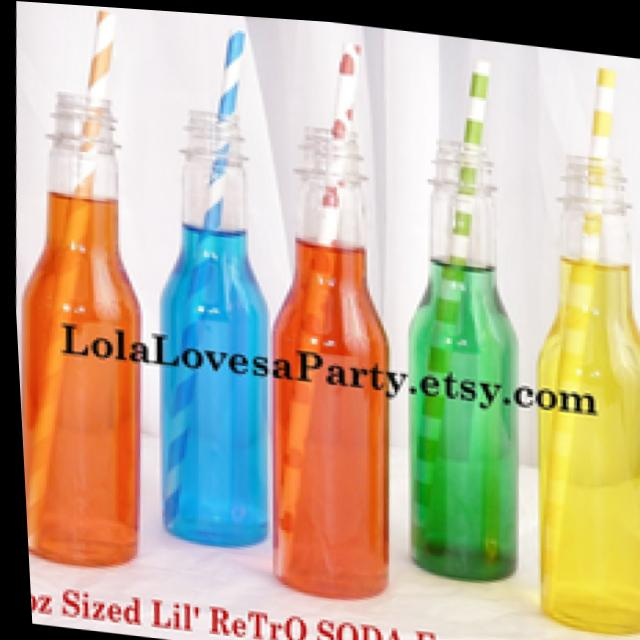glass_beverage_bottles: (250, 173, 410, 602), (6, 149, 155, 570), (387, 189, 533, 584), (145, 156, 282, 551), (517, 203, 640, 627)
